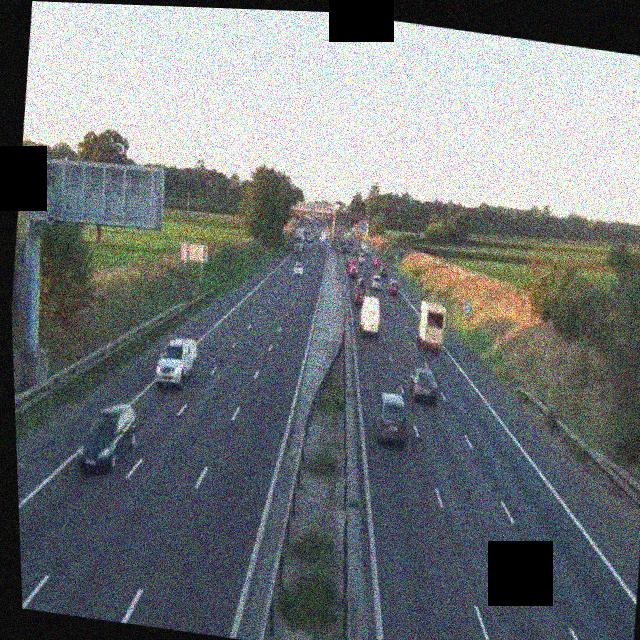car: (75, 396, 141, 478), (153, 333, 200, 390), (372, 391, 409, 446), (406, 364, 441, 404), (367, 278, 381, 296), (353, 287, 365, 307), (370, 269, 384, 286), (387, 279, 400, 297), (293, 261, 304, 276), (349, 265, 360, 280)
truck: (412, 297, 449, 351), (357, 292, 382, 337), (294, 229, 306, 252)
